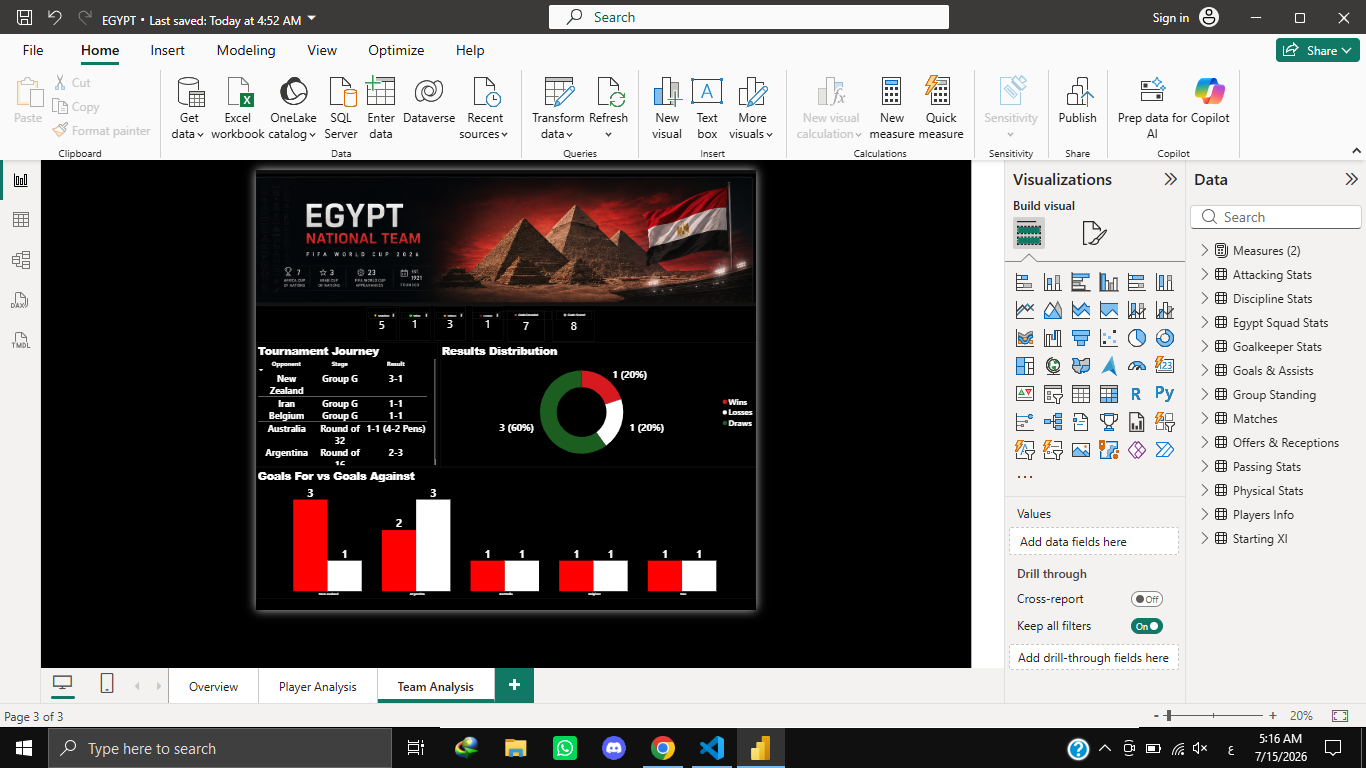

The dashboard page shown, as its layout file describes it:
{"tool":"powerbi","page":{"name":"Team Analysis","canvas":[2500,2200],"ordinal":2},"visuals":[{"type":"clusteredColumnChart","title":"Goals For vs Goals Against","fields":{"Y":["Sum(Matches.Egypt Goals)","Sum(Matches.Opp Goals)"],"Category":["Matches.Opponent"]},"box":[0,1485,2500,660],"z":0},{"type":"donutChart","title":"Results Distribution","fields":{"Y":["Measures (2).Wins","Measures (2).Losses","Measures (2).Draws"]},"box":[920,860,1580,625],"z":1000},{"type":"tableEx","title":"Tournament Journey","fields":{"Values":["Matches.Opponent","Matches.Stage","Matches.Result"]},"box":[0,860,910,625],"z":2000},{"type":"card","fields":{"Values":["Measures (2).Wins"]},"box":[716,682,156,174],"z":3000},{"type":"card","fields":{"Values":["Measures (2).Draws"]},"box":[892,682,158,174],"z":4000},{"type":"card","fields":{"Values":["Measures (2).Losses"]},"box":[1080,682,156,174],"z":5000},{"type":"card","fields":{"Values":["Measures (2).Goals Scored"]},"box":[1480,697.5,215,157.5],"z":6000},{"type":"card","fields":{"Values":["Measures (2).Goals Conceded"]},"box":[1252.5,697.5,187.5,157.5],"z":7000},{"type":"textbox","box":[723.5,710.2,140,32.9],"z":8000},{"type":"textbox","box":[902.1,710.2,140,32.9],"z":9000},{"type":"textbox","box":[1080.7,710.2,140,32.9],"z":10000},{"type":"textbox","box":[1497.5,705,180,45],"z":11000},{"type":"textbox","box":[1220,705,260,45],"z":12000},{"type":"card","fields":{"Values":["Measures (2).Matches Played"]},"box":[551.7,686.7,155,170],"z":13000},{"type":"textbox","box":[560,710,140,33.3],"z":14000},{"type":"image","box":[0,0,2500,680],"z":15000}]}

Visuals, with their boxes on the page's 2500x2200 design canvas (x1, y1, x2, y2). These are canvas units, not pixel positions in the 1366x768 screenshot, which may show the page scaled, cropped or inside an application window:
"Goals For vs Goals Against" clusteredColumnChart: (0, 1485, 2500, 2145)
"Results Distribution" donutChart: (920, 860, 2500, 1485)
"Tournament Journey" tableEx: (0, 860, 910, 1485)
card - Measures (2).Wins: (716, 682, 872, 856)
card - Measures (2).Draws: (892, 682, 1050, 856)
card - Measures (2).Losses: (1080, 682, 1236, 856)
card - Measures (2).Goals Scored: (1480, 698, 1695, 855)
card - Measures (2).Goals Conceded: (1252, 698, 1440, 855)
textbox: (724, 710, 864, 743)
textbox: (902, 710, 1042, 743)
textbox: (1081, 710, 1221, 743)
textbox: (1498, 705, 1678, 750)
textbox: (1220, 705, 1480, 750)
card - Measures (2).Matches Played: (552, 687, 707, 857)
textbox: (560, 710, 700, 743)
image: (0, 0, 2500, 680)
